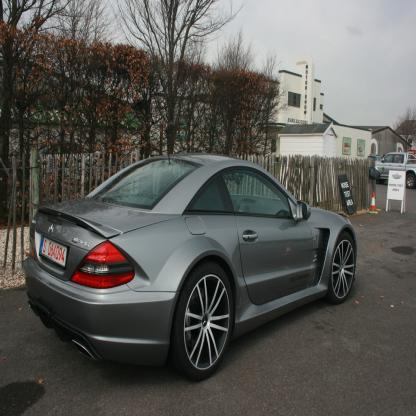Car: (22, 152, 358, 380)
